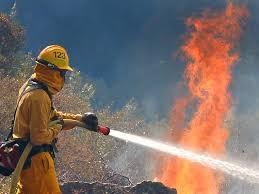fire: (165, 7, 241, 155)
